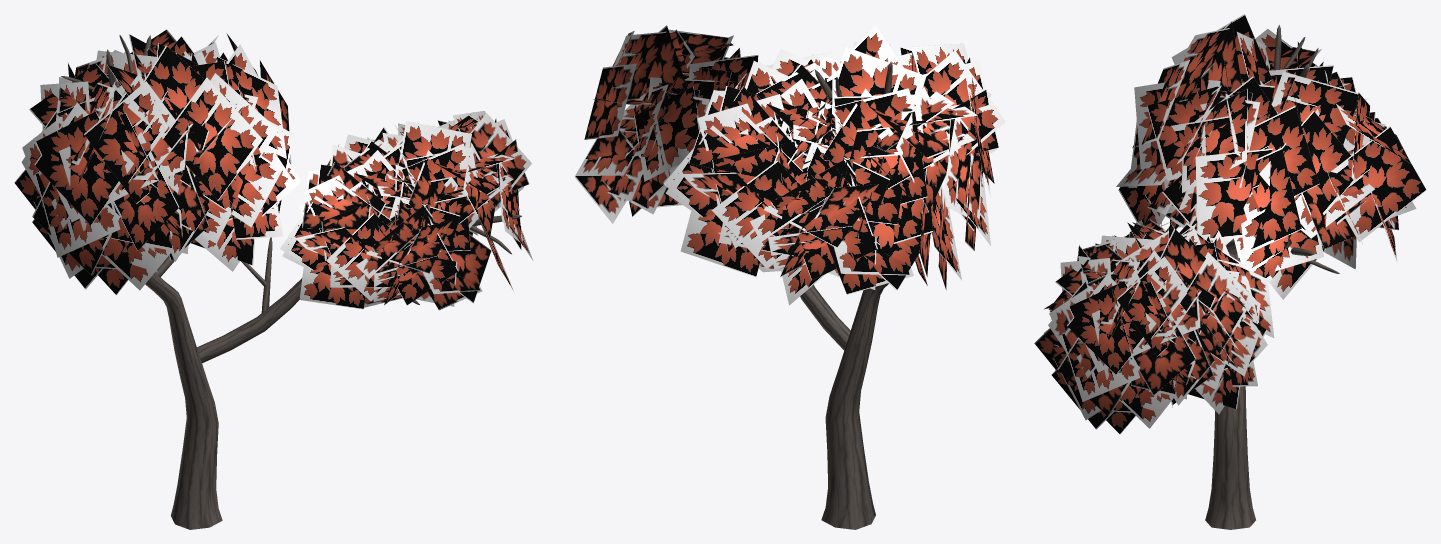
File: q_MapleTree_1.glb
The picture shows the model from 3 angles, left to right: view 1: azimuth 30°, elevation 25°; view 2: azimuth 150°, elevation 25°; view 3: azimuth 270°, elevation 25°; orthographic projection. The views are drawn at different scales.
Visible parts, largest first — view 1: MapleTree_1_Cube.005; view 2: MapleTree_1_Cube.005; view 3: MapleTree_1_Cube.005.
Part boxes in pixels (x1,y1,x2,y2): MapleTree_1_Cube.005: (14, 29, 533, 529); MapleTree_1_Cube.005: (575, 25, 1005, 529); MapleTree_1_Cube.005: (1034, 14, 1426, 529).
Bounding box in the file's own units: 6.23 × 6.64 × 4.9.
Materials: 2 (2 with a texture image).
